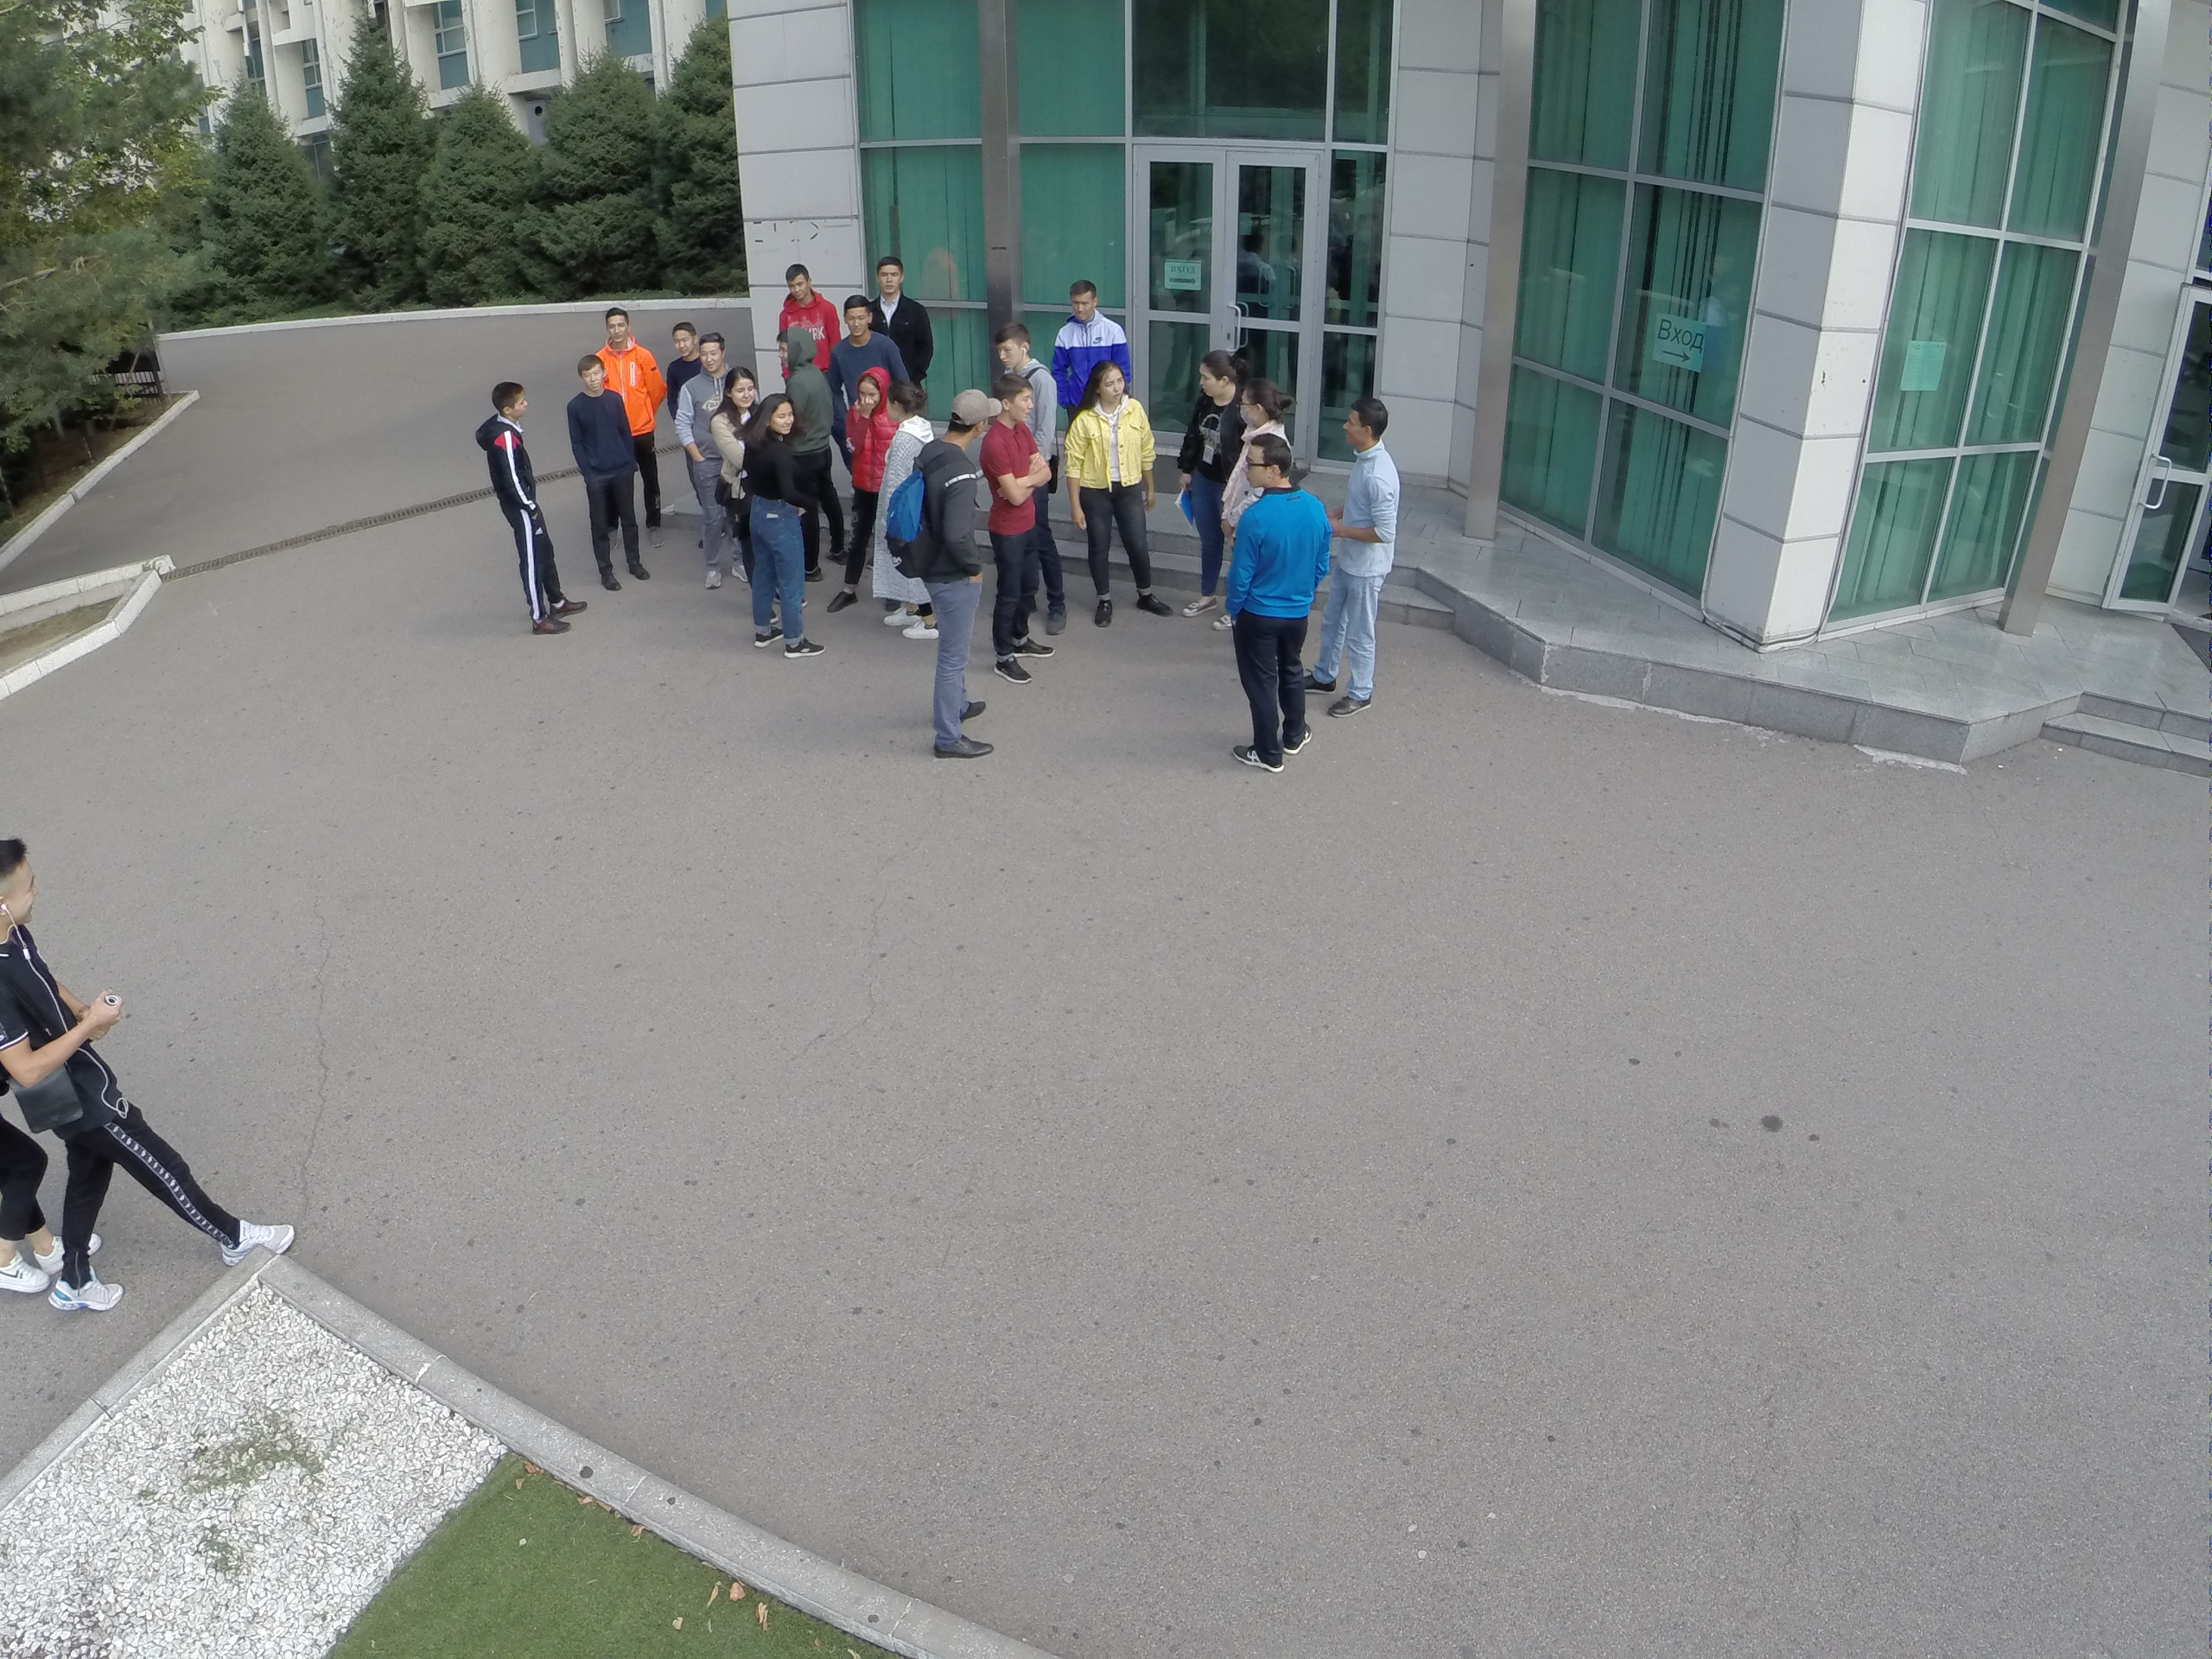person: (1, 887, 291, 1322), (1210, 433, 1319, 775), (454, 380, 589, 643), (909, 390, 989, 771), (1066, 374, 1184, 630), (1322, 397, 1406, 729), (1174, 346, 1247, 632), (764, 331, 850, 570), (560, 365, 648, 592), (585, 308, 671, 525), (998, 392, 1058, 689), (872, 394, 937, 652), (750, 396, 809, 661), (830, 372, 886, 608), (693, 323, 733, 596), (719, 380, 762, 573), (778, 260, 847, 353), (988, 325, 1058, 411), (1060, 282, 1128, 366), (866, 257, 929, 343), (838, 302, 898, 368)
